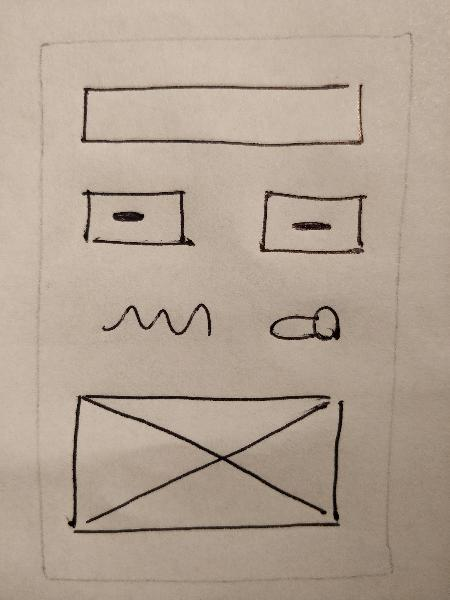button: (252, 182, 371, 265), (75, 183, 207, 257)
image: (63, 386, 350, 544)
switch: (264, 301, 345, 350)
text: (96, 295, 222, 349)
text_input: (73, 78, 374, 159)
